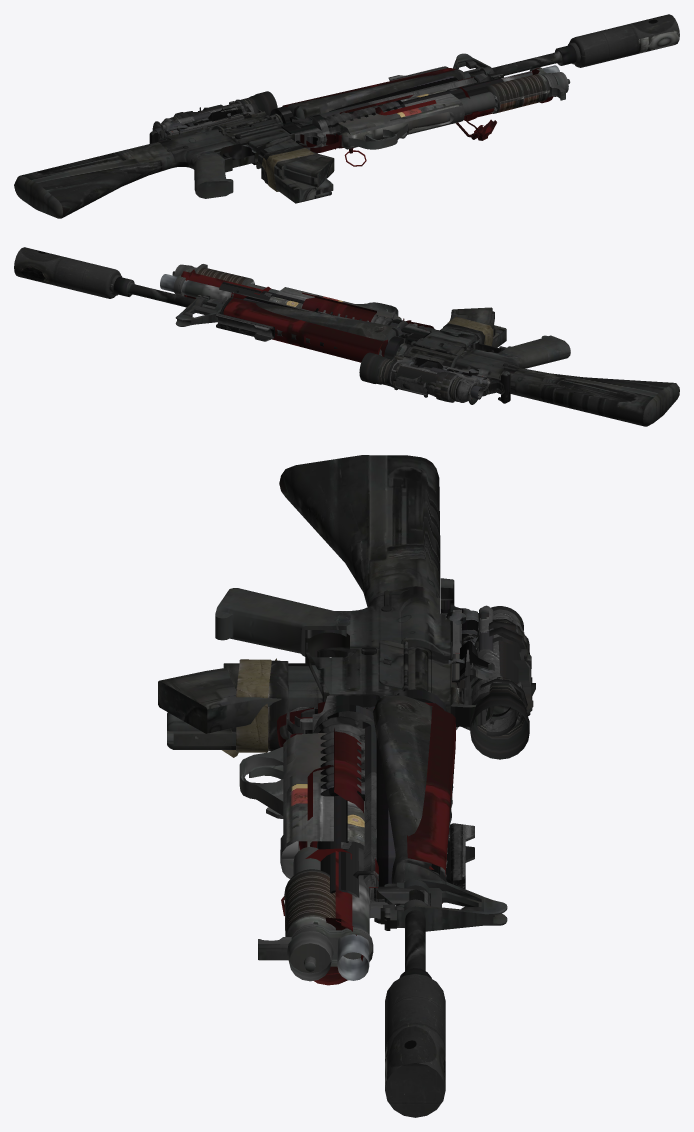
File: t5_weapon_viewmodel_m16a1.glb
3 renders of one model, top to bottom at view 1: azimuth 30°, elevation 25°; view 2: azimuth 150°, elevation 25°; view 3: azimuth 270°, elevation 25°, orthographic. The views are drawn at different scales.
Visible parts, largest first — view 1: t5_weapon_viewmodel_m16a1; view 2: t5_weapon_viewmodel_m16a1; view 3: t5_weapon_viewmodel_m16a1.
Part boxes in pixels (x1,y1,x2,y2): t5_weapon_viewmodel_m16a1: (14, 14, 679, 218); t5_weapon_viewmodel_m16a1: (14, 247, 679, 426); t5_weapon_viewmodel_m16a1: (158, 455, 535, 1117).
Size of the model in its own units: 1.12 by 0.0972 by 0.2909.
20 materials, 19 textured.
